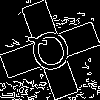Q: (25, 25, 78, 84)
